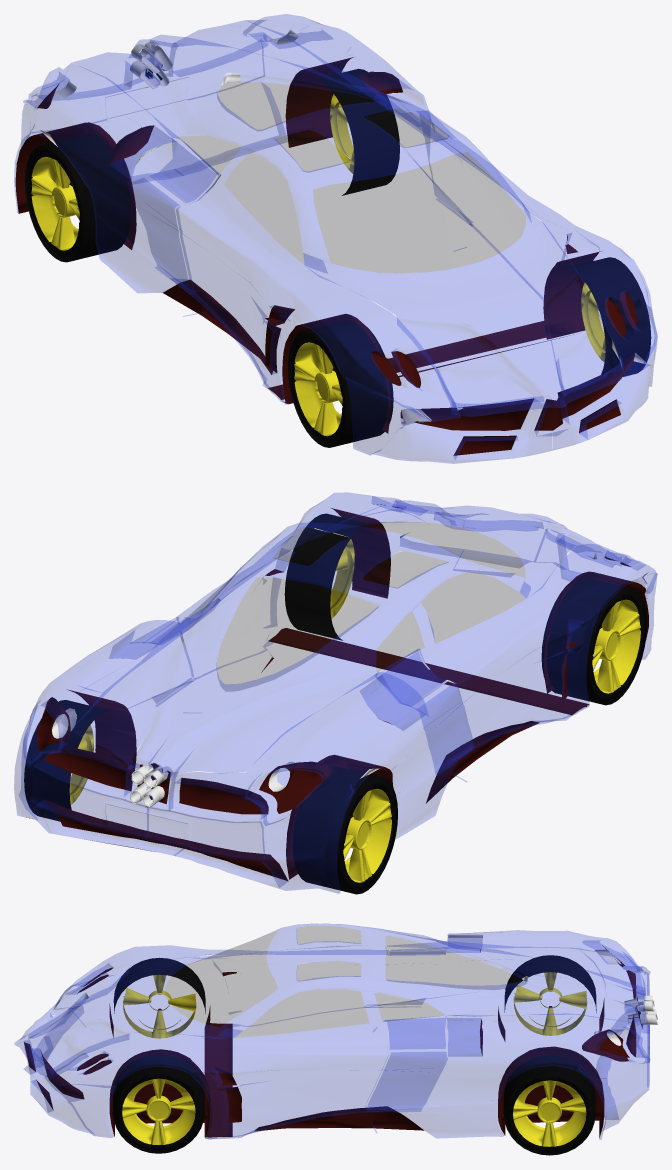
Rendered from car-model.glb.
3 renders of one model, top to bottom at view 1: azimuth 30°, elevation 25°; view 2: azimuth 150°, elevation 25°; view 3: azimuth 270°, elevation 25°, orthographic. The views are drawn at different scales.
Visible parts, largest first — view 1: 3DSMesh_9, 3DSMesh_10, 3DSMesh_8, 3DSMesh_2, 3DSMesh_0, 3DSMesh_4, 3DSMesh_6, 3DSMesh_1, 3DSMesh_3, 3DSMesh_11, 3DSMesh_7, 3DSMesh_5; view 2: 3DSMesh_9, 3DSMesh_8, 3DSMesh_10, 3DSMesh_2, 3DSMesh_0, 3DSMesh_6, 3DSMesh_4, 3DSMesh_1, 3DSMesh_3, 3DSMesh_11, 3DSMesh_7, 3DSMesh_5; view 3: 3DSMesh_9, 3DSMesh_10, 3DSMesh_8, 3DSMesh_4, 3DSMesh_6, 3DSMesh_7, 3DSMesh_5, 3DSMesh_1, 3DSMesh_3, 3DSMesh_0, 3DSMesh_2, 3DSMesh_11.
Boxes of the visible parts, x1,y1,x2,y2 form: 3DSMesh_9: [14, 14, 657, 463]; 3DSMesh_10: [177, 82, 525, 272]; 3DSMesh_8: [15, 57, 637, 455]; 3DSMesh_2: [25, 134, 130, 262]; 3DSMesh_0: [288, 321, 393, 447]; 3DSMesh_4: [313, 68, 399, 195]; 3DSMesh_6: [564, 257, 651, 376]; 3DSMesh_1: [294, 342, 342, 436]; 3DSMesh_3: [31, 157, 79, 250]; 3DSMesh_11: [54, 29, 297, 98]; 3DSMesh_7: [581, 282, 605, 362]; 3DSMesh_5: [330, 94, 354, 173]; 3DSMesh_9: [14, 492, 657, 893]; 3DSMesh_8: [26, 504, 648, 881]; 3DSMesh_10: [182, 522, 526, 691]; 3DSMesh_2: [292, 766, 397, 894]; 3DSMesh_0: [541, 578, 646, 705]; 3DSMesh_6: [284, 513, 370, 640]; 3DSMesh_4: [24, 700, 110, 821]; 3DSMesh_1: [592, 599, 640, 693]; 3DSMesh_3: [343, 788, 391, 882]; 3DSMesh_11: [52, 709, 286, 807]; 3DSMesh_7: [330, 539, 354, 618]; 3DSMesh_5: [69, 725, 93, 804]; 3DSMesh_9: [14, 923, 650, 1139]; 3DSMesh_10: [165, 926, 526, 1037]; 3DSMesh_8: [24, 945, 642, 1138]; 3DSMesh_4: [503, 1055, 595, 1155]; 3DSMesh_6: [113, 1054, 204, 1153]; 3DSMesh_7: [122, 1078, 195, 1144]; 3DSMesh_5: [513, 1080, 586, 1146]; 3DSMesh_1: [123, 974, 196, 1038]; 3DSMesh_3: [513, 972, 587, 1035]; 3DSMesh_0: [113, 957, 205, 1032]; 3DSMesh_2: [504, 955, 596, 1029]; 3DSMesh_11: [594, 949, 657, 1045].
Size of the model in its own units: 8.52 by 4.84 by 19.33.
